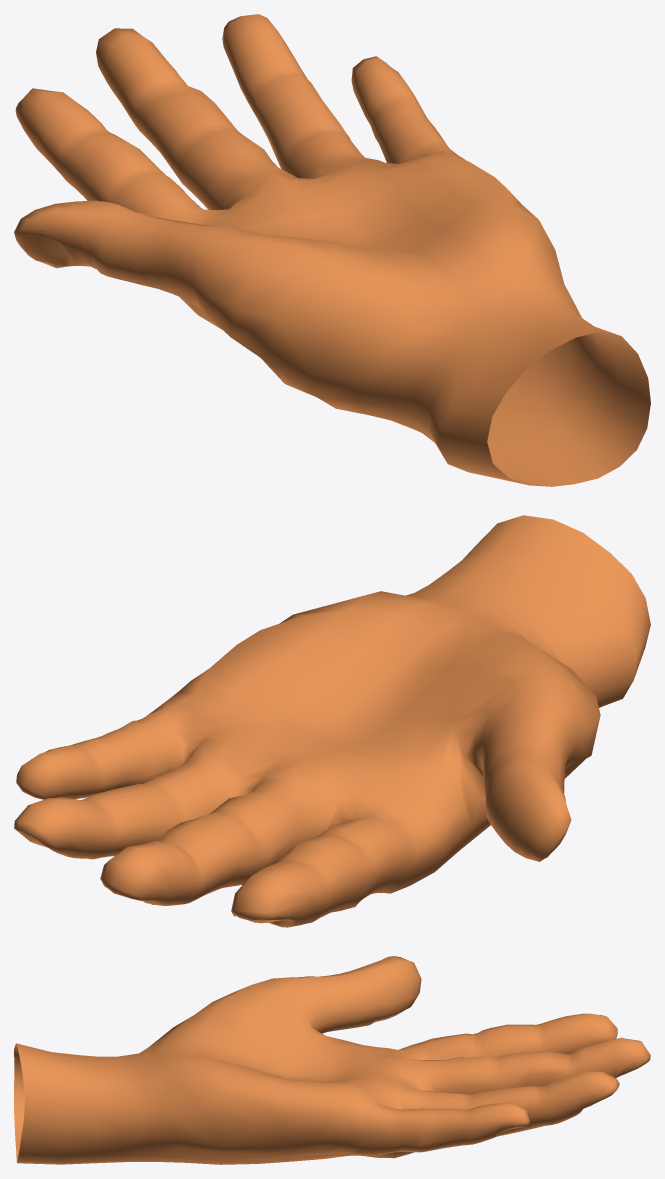
Rendered from hand.glb.
The picture shows the model from 3 angles, top to bottom: view 1: azimuth 30°, elevation 25°; view 2: azimuth 150°, elevation 25°; view 3: azimuth 270°, elevation 25°; orthographic projection. The views are drawn at different scales.
Visible parts, largest first — view 1: theooo-base.003; view 2: theooo-base.003; view 3: theooo-base.003.
Boxes of the visible parts, <box> form: theooo-base.003: <box>14,14,650,486</box>; theooo-base.003: <box>14,515,650,927</box>; theooo-base.003: <box>14,956,650,1164</box>.
Size of the model in its own units: 0.0495 by 0.018 by 0.0849.
